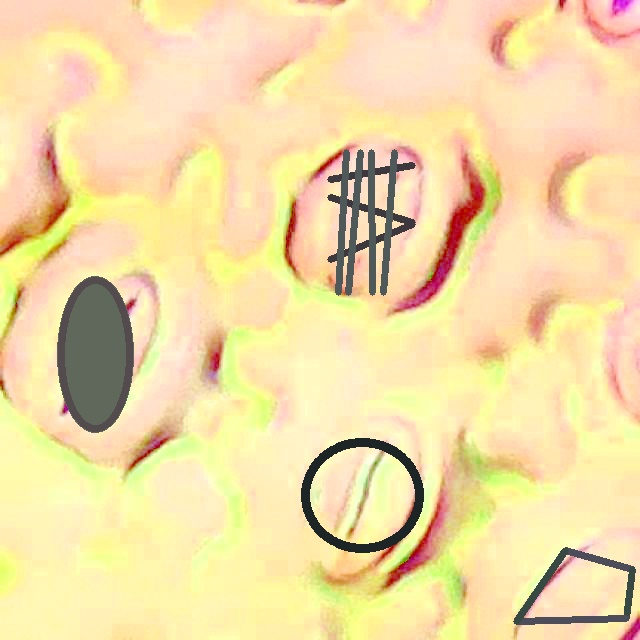close: (328, 150, 414, 295), (514, 547, 635, 621)
open: (300, 438, 424, 553), (57, 276, 133, 432)
